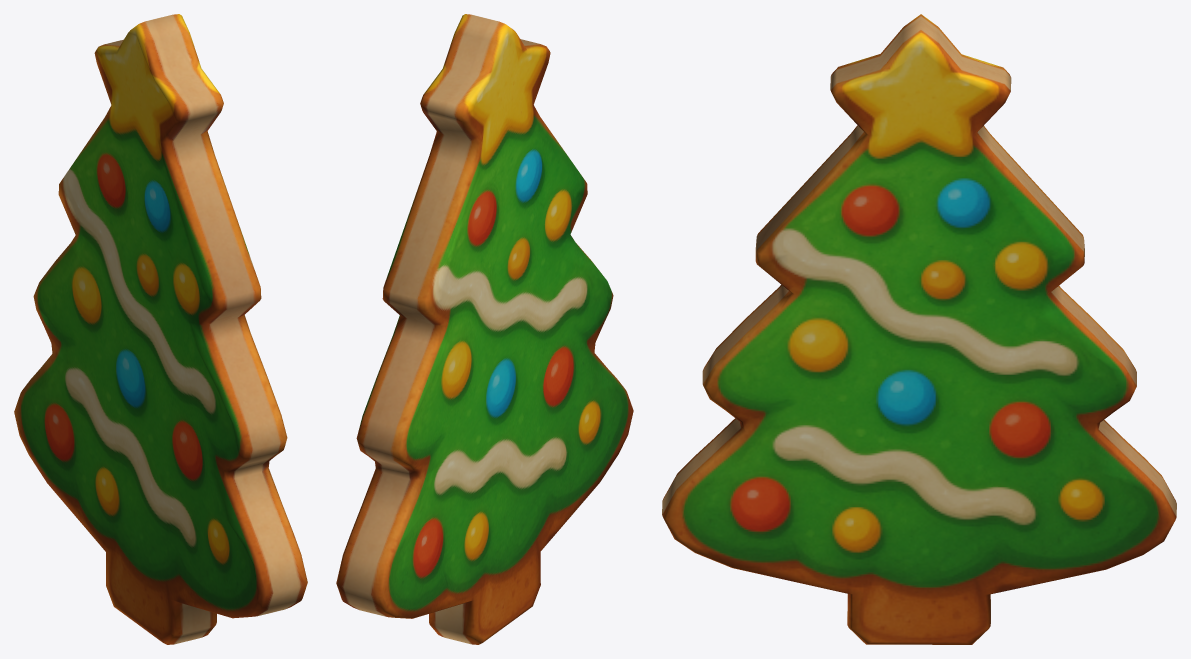
The model's file is escenario_navidad_galleta.fbx.
3 views of the same model, side by side, from view 1: azimuth 30°, elevation 25°; view 2: azimuth 150°, elevation 25°; view 3: azimuth 270°, elevation 25° (orthographic).
Parts seen in each view (by area): view 1: Arbol Galleta.001; view 2: Arbol Galleta.001; view 3: Arbol Galleta.001.
Part boxes in pixels (x1,y1,x2,y2): Arbol Galleta.001: (14, 14, 307, 644); Arbol Galleta.001: (336, 14, 633, 644); Arbol Galleta.001: (662, 14, 1176, 644).
Size of the model in its own units: 49.49 by 596 by 454.
